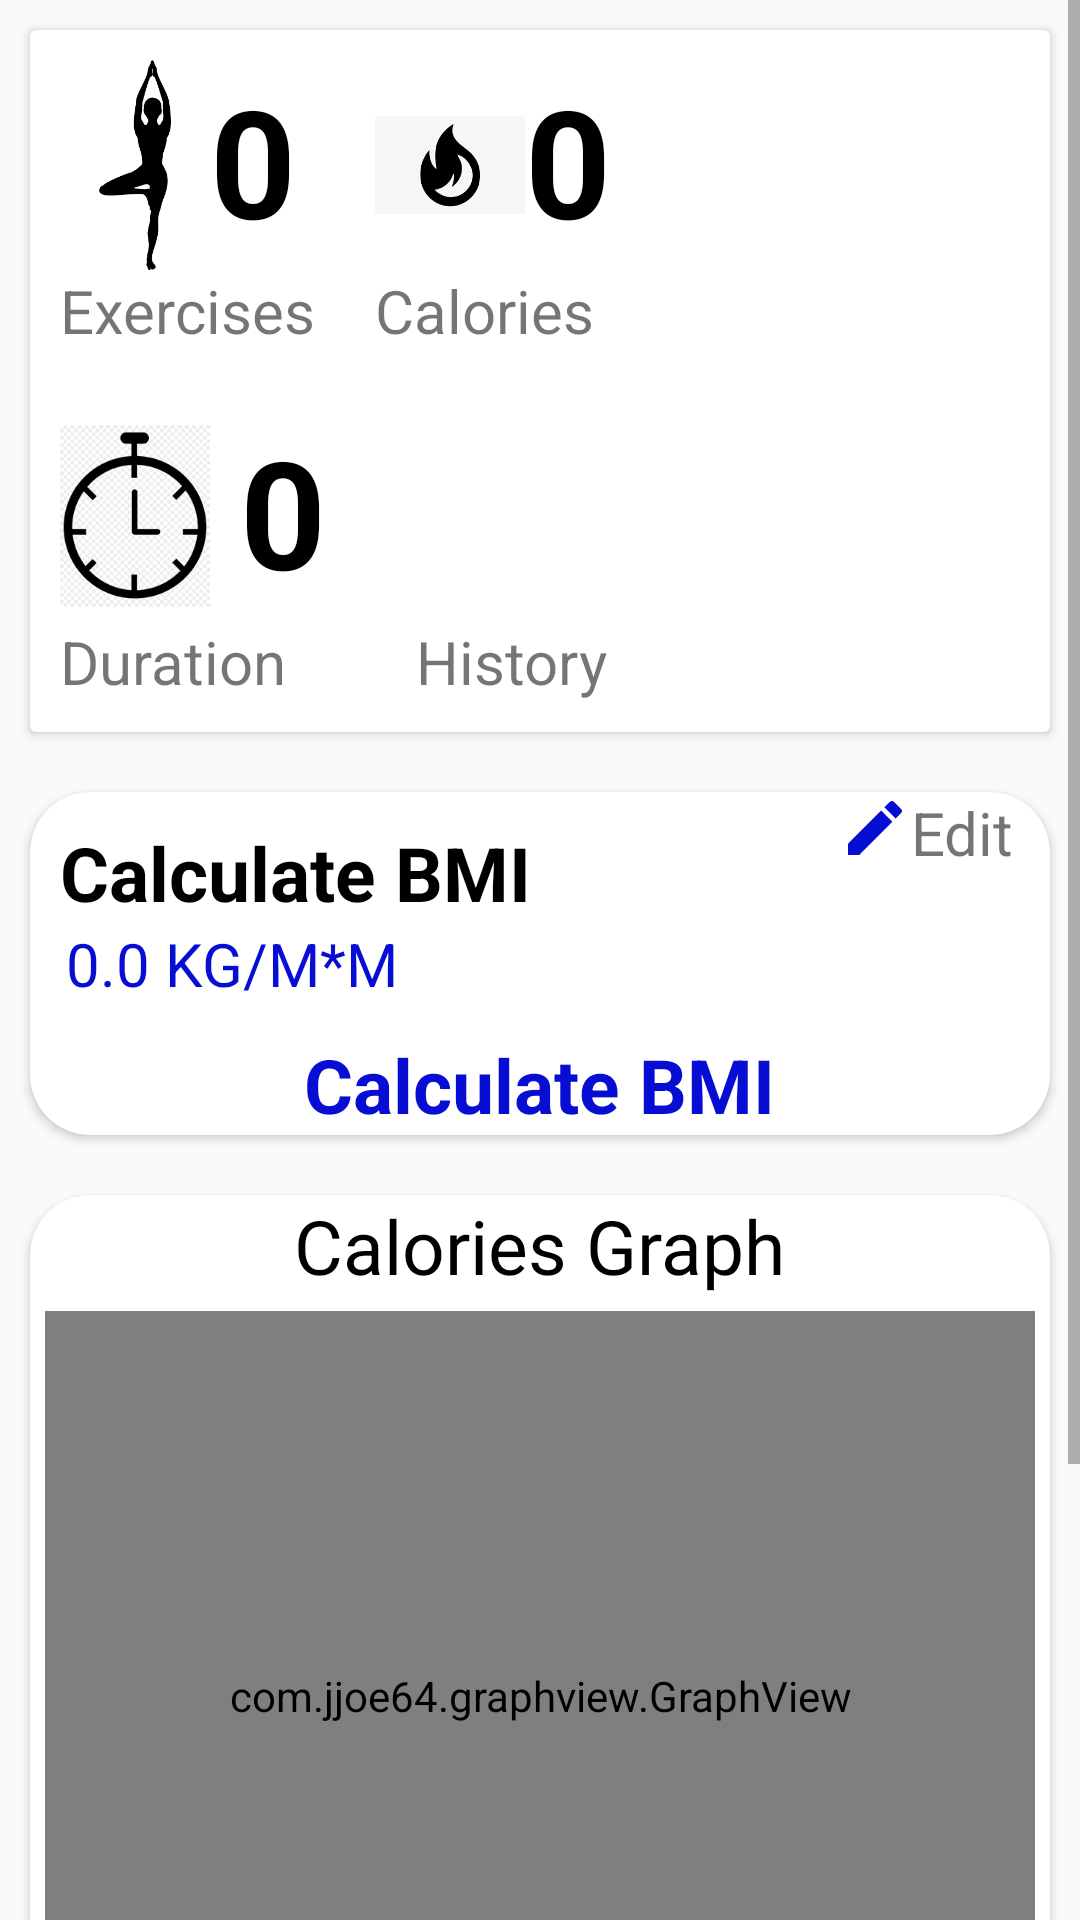

Screen size 1080 × 1920. Icon name, then its box in pixels as (x1, y1, x2, y2):
clock: (63, 432, 207, 599)
